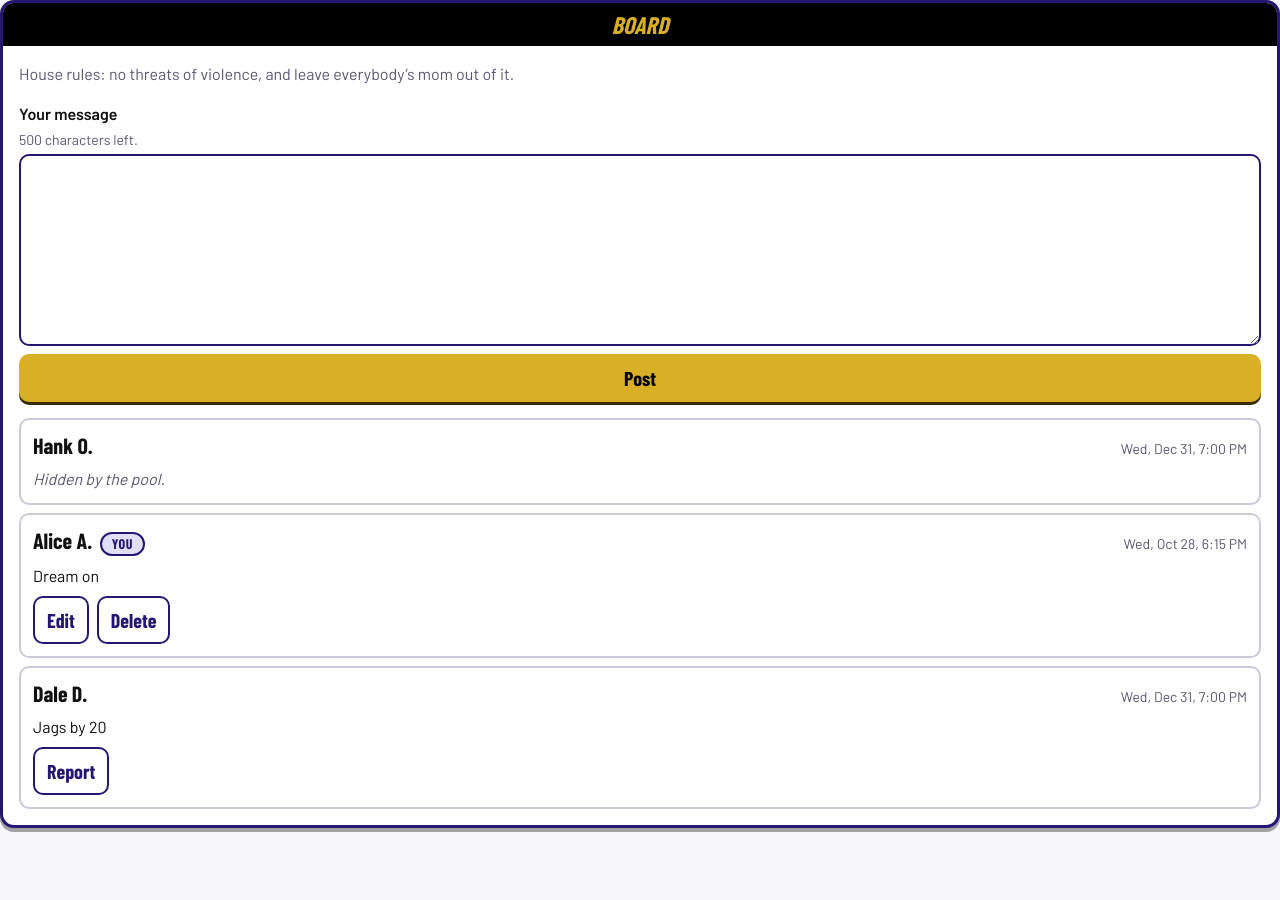
Test: a paid player posts under their own name, newest first, and can change only their own post
The width and height of the screenshot is (1280, 900).
expect the text "no threats of violence" is shown: met, box left=19, top=64, right=514, bottom=83
expect the list item "Hank O. Wed, Dec 31, 7:00 PM Hidden by the pool." is shown: met, box left=19, top=418, right=1261, bottom=505
Type "  Lions in 3  " into the text box labelled "Your message" at (640, 250), box left=19, top=154, right=1261, bottom=346
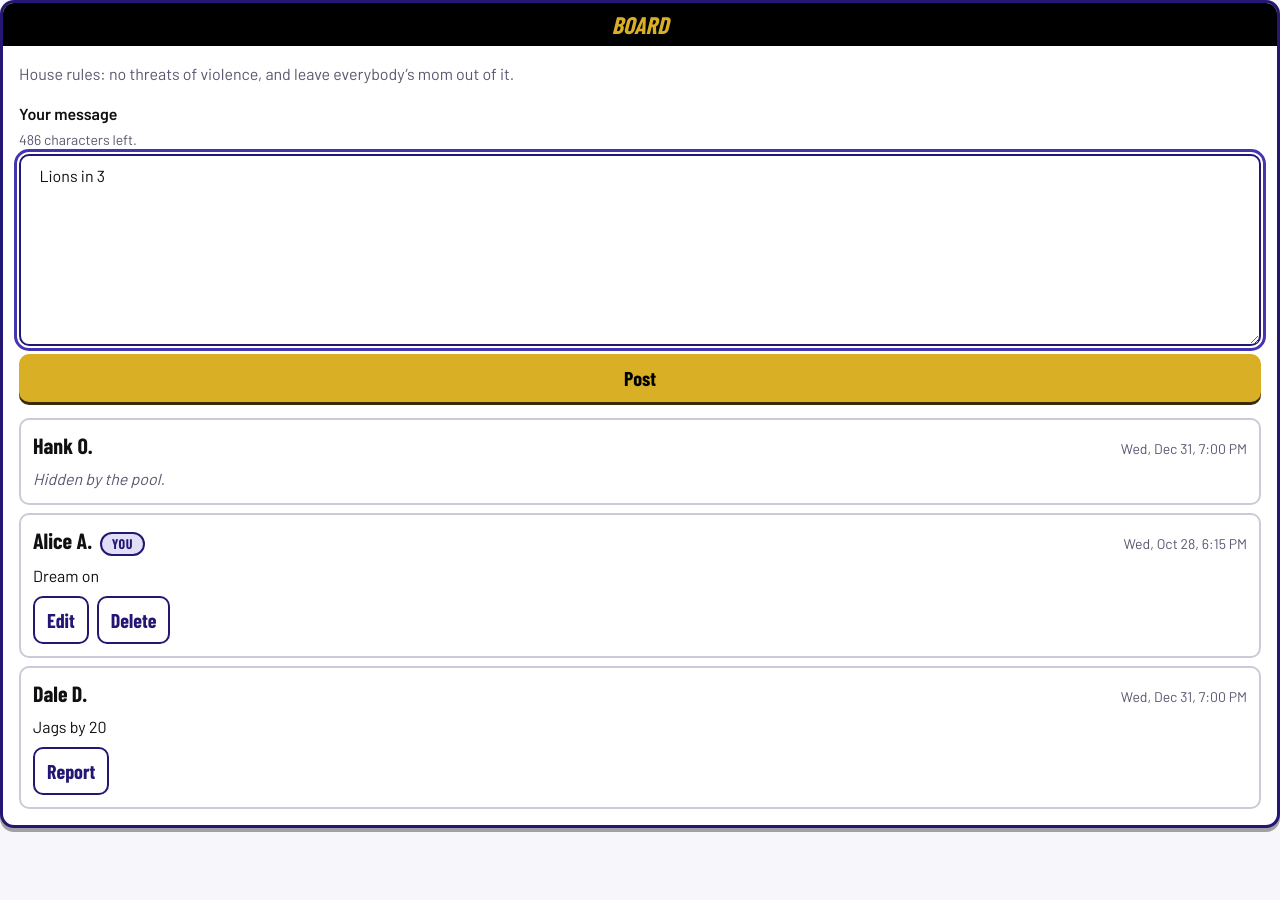
Click the button "Post" at (640, 378), box left=19, top=354, right=1261, bottom=402
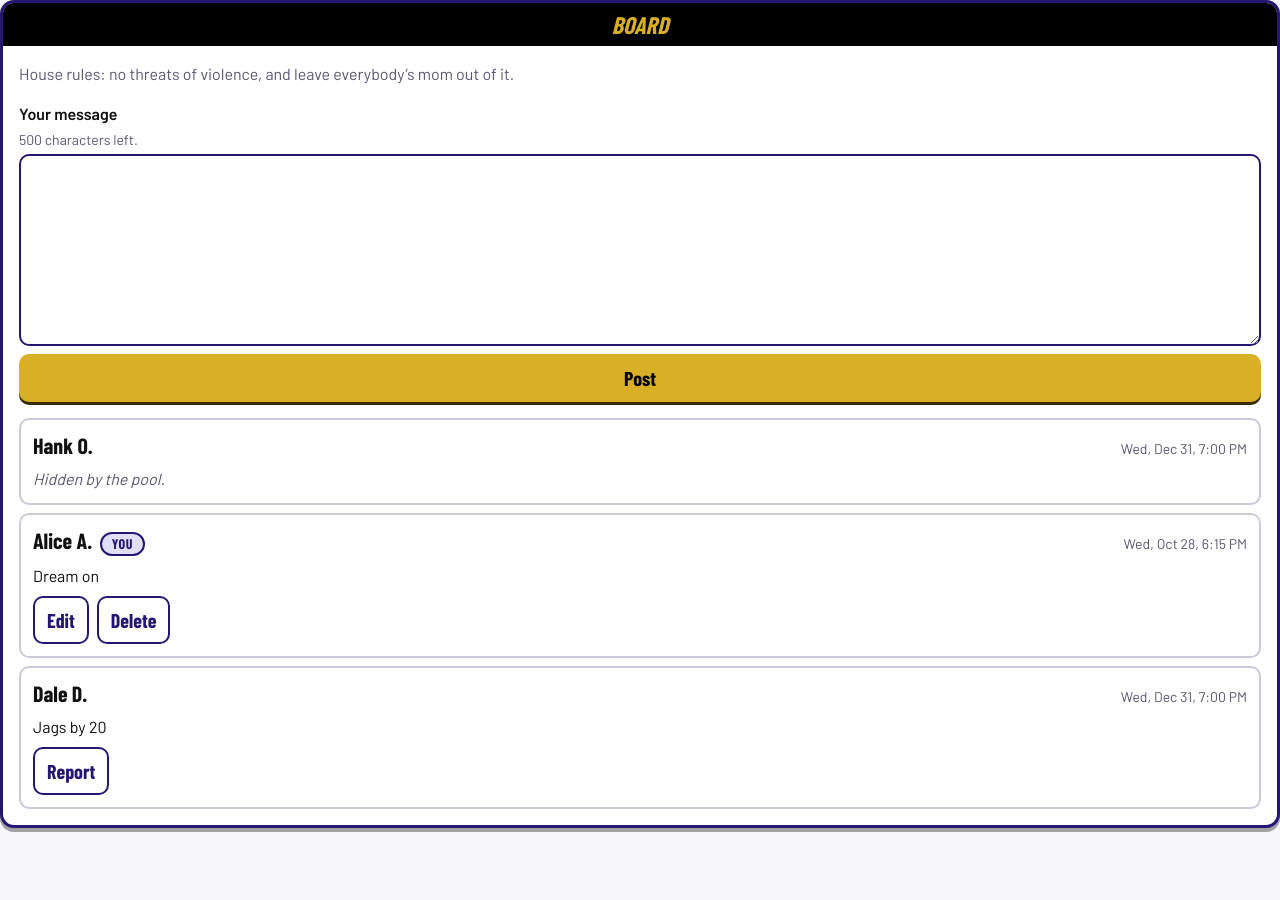
Click the button "Report" at (71, 771), box left=33, top=747, right=109, bottom=795
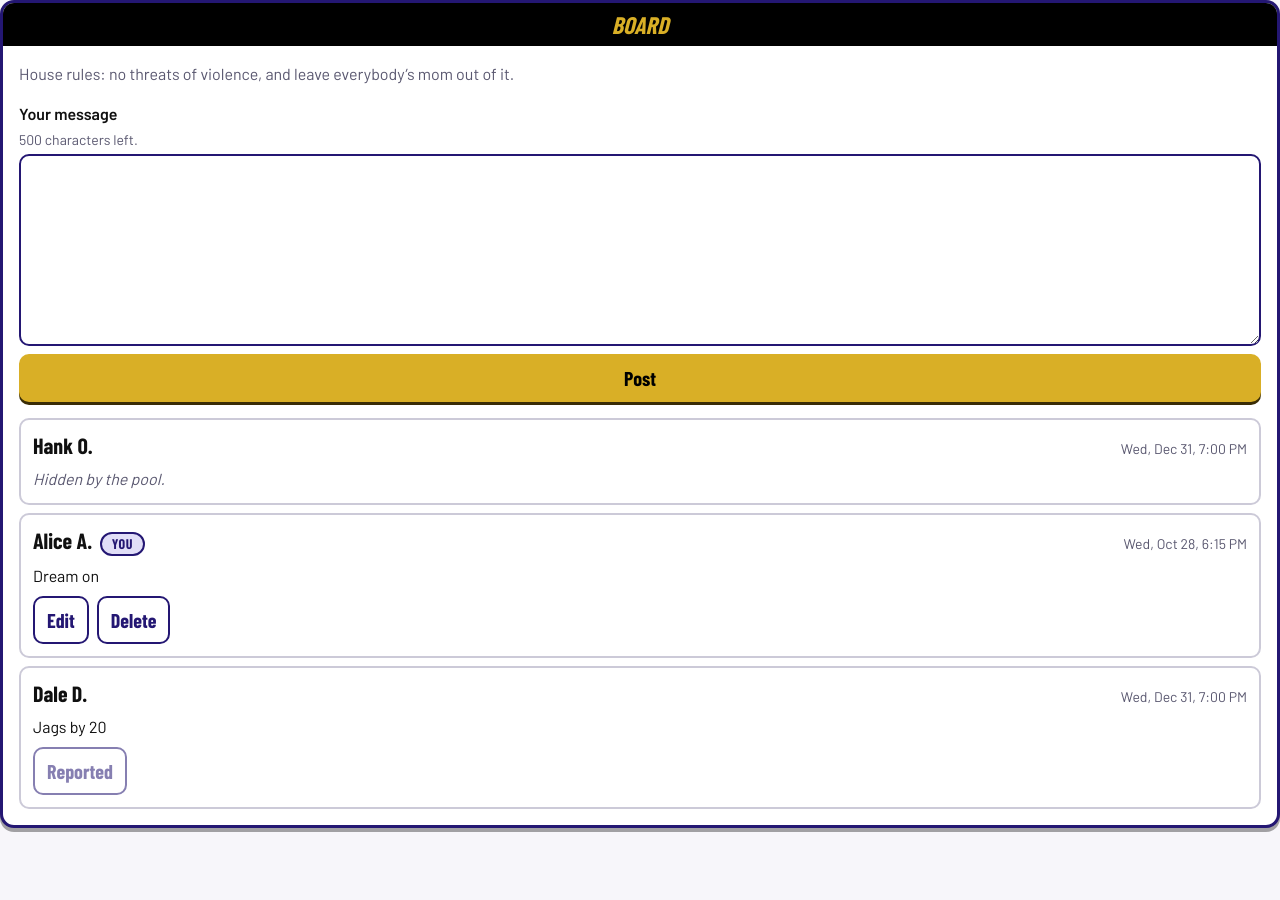
expect the button "Reported" is disabled: met, box left=33, top=747, right=127, bottom=795
